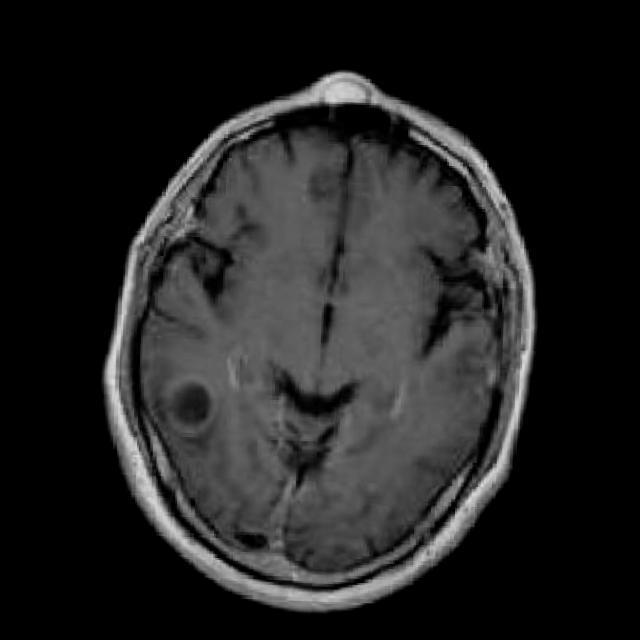LMCI: (158, 363, 279, 527)
